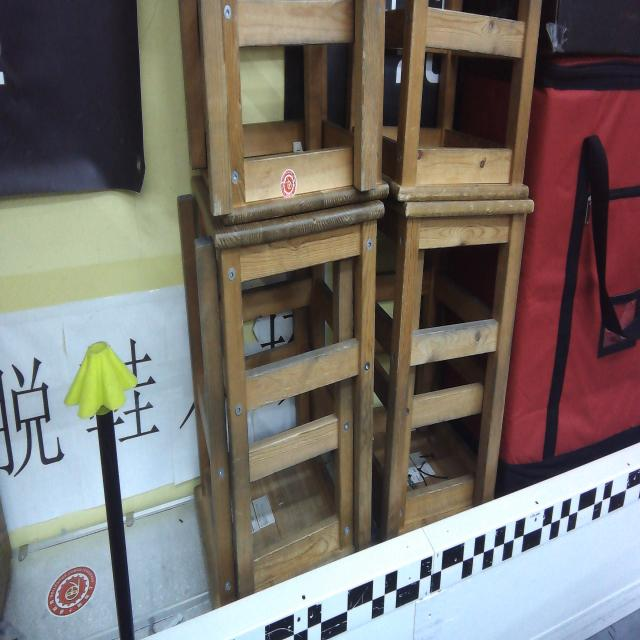Yellow-Stake-Head: (64, 341, 138, 419)
